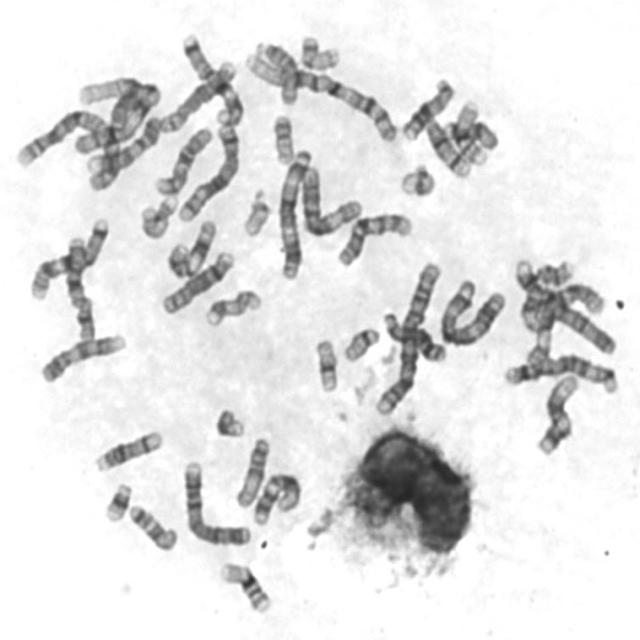A1: (241, 46, 402, 145), (69, 71, 164, 156)
A2: (371, 256, 443, 418), (12, 104, 124, 193)
A3: (274, 144, 316, 281), (436, 274, 508, 348)
B4: (509, 256, 617, 358), (179, 456, 252, 548)
B5: (173, 117, 242, 223), (500, 351, 620, 396)
C10: (333, 207, 415, 270), (150, 121, 216, 198)
C11: (518, 258, 575, 334), (164, 215, 218, 281)
C12: (532, 369, 580, 459), (248, 468, 303, 528)
C6: (524, 280, 610, 369), (296, 160, 366, 238)
C7: (26, 212, 112, 304), (177, 28, 246, 129)
C8: (156, 54, 240, 134), (158, 246, 236, 317)
C9: (84, 113, 162, 180), (36, 329, 128, 385)
D13: (398, 72, 458, 144), (378, 306, 450, 366)
D14: (90, 426, 165, 474), (421, 113, 474, 179)
D15: (252, 36, 302, 106), (231, 432, 273, 510)
E16: (215, 558, 274, 616), (450, 96, 489, 166)
E17: (201, 284, 264, 329), (137, 190, 180, 241)
E18: (124, 499, 180, 554), (438, 115, 500, 152)
F19: (311, 334, 340, 396), (396, 161, 437, 198)
F20: (295, 29, 342, 72), (268, 110, 296, 166)
G21: (100, 478, 134, 524), (210, 404, 248, 440)
G22: (239, 182, 273, 239), (340, 322, 382, 365)
X: (62, 231, 98, 343)
Y: (107, 91, 136, 129)
